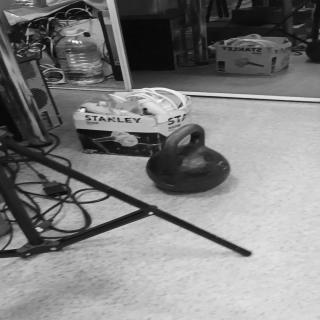kettlebell: (146, 124, 233, 194)
